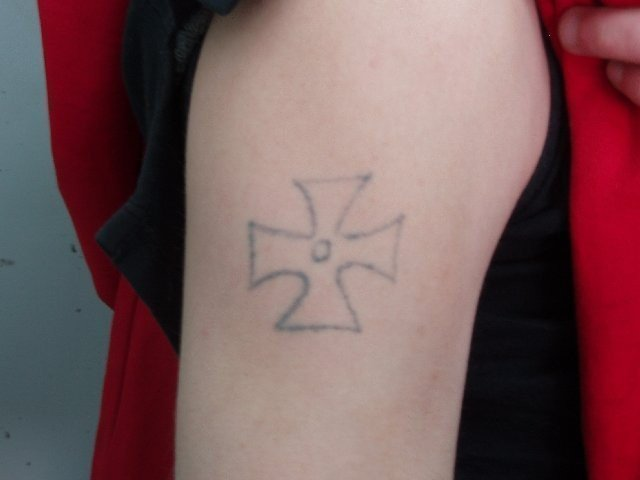tatu9_krest: (236, 163, 446, 372)
